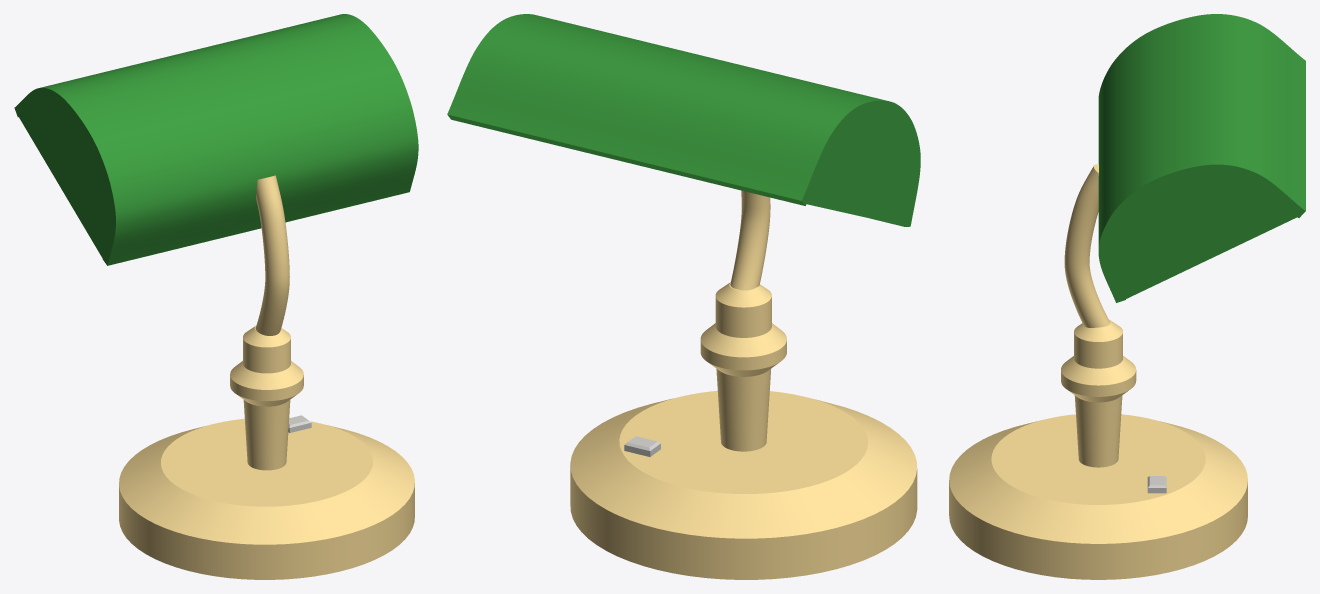
The model's file is library_lamp__06accd4e0351.glb.
3 renders of one model, left to right at view 1: azimuth 30°, elevation 25°; view 2: azimuth 150°, elevation 25°; view 3: azimuth 270°, elevation 25°, orthographic. The views are drawn at different scales.
Visible parts, largest first — view 1: green_roof, base, stand, end_cap.001, curved_arm; view 2: base, green_roof, stand, end_cap.001, curved_arm; view 3: base, green_roof, end_cap, stand, curved_arm.
Boxes of the visible parts, left/top/right/bottom form: green_roof: left=14, top=14, right=418, bottom=265; base: left=119, top=418, right=414, bottom=579; stand: left=230, top=326, right=303, bottom=470; end_cap.001: left=18, top=98, right=110, bottom=257; curved_arm: left=255, top=175, right=289, bottom=335; base: left=570, top=391, right=917, bottom=579; green_roof: left=447, top=14, right=920, bottom=226; stand: left=700, top=282, right=786, bottom=451; end_cap.001: left=804, top=106, right=914, bottom=226; curved_arm: left=730, top=190, right=770, bottom=290; base: left=949, top=414, right=1247, bottom=579; green_roof: left=1098, top=14, right=1305, bottom=302; end_cap: left=1103, top=169, right=1301, bottom=301; stand: left=1061, top=319, right=1136, bottom=467; curved_arm: left=1064, top=164, right=1109, bottom=327.
Size of the model in its own units: 0.341 by 0.4506 by 0.3413.
